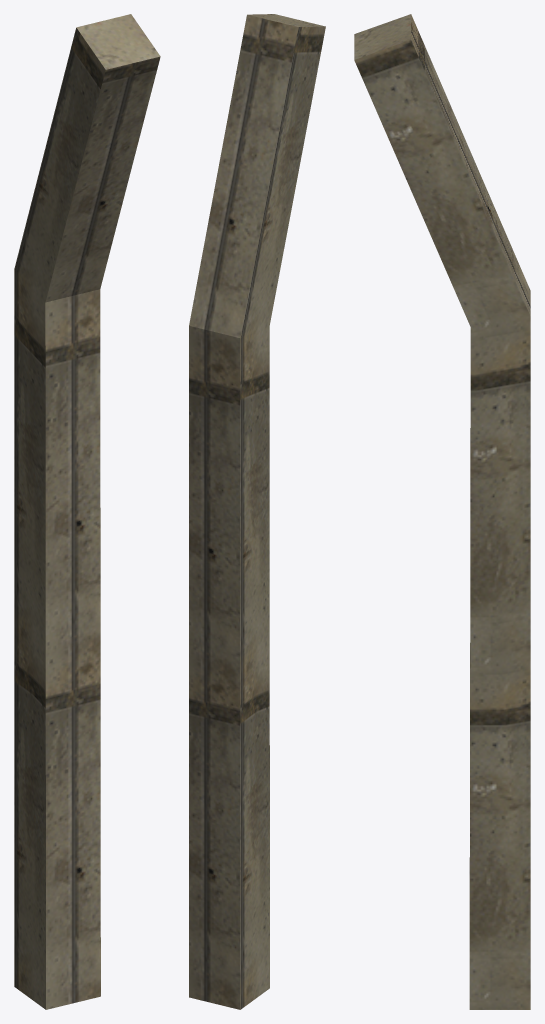
Rendered from MO_ROUNDWALLPILLAR.fbx.
3 renders of one model, left to right at view 1: azimuth 30°, elevation 25°; view 2: azimuth 150°, elevation 25°; view 3: azimuth 270°, elevation 25°, orthographic. The views are drawn at different scales.
Parts seen in each view (by area): view 1: MO_ROUNDWALLPILLAR; view 2: MO_ROUNDWALLPILLAR; view 3: MO_ROUNDWALLPILLAR.
Boxes of the visible parts, x1=… form: MO_ROUNDWALLPILLAR: x1=14, y1=14, x2=160, y2=1009; MO_ROUNDWALLPILLAR: x1=189, y1=14, x2=325, y2=1009; MO_ROUNDWALLPILLAR: x1=354, y1=14, x2=530, y2=1009.
Bounding box in the file's own units: 1 × 17.5 × 2.89.
